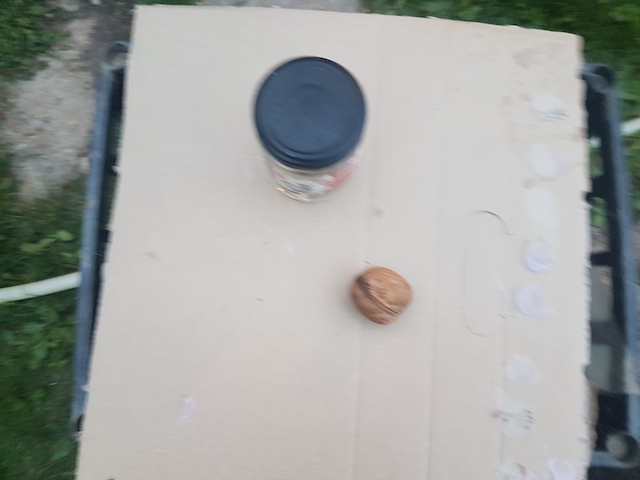nut: (346, 263, 416, 327)
recipient: (255, 56, 369, 167)
